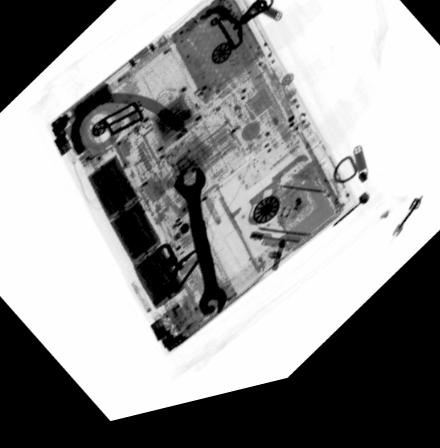Wrench: (170, 174, 227, 327)
